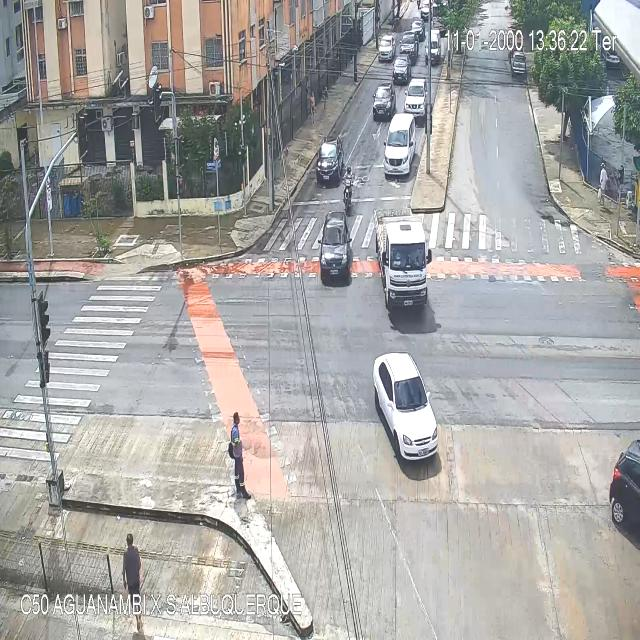Car: (374, 352, 439, 462), (610, 437, 640, 538), (321, 211, 352, 286), (384, 114, 414, 179), (316, 139, 343, 184), (403, 79, 428, 120), (400, 32, 420, 68), (425, 29, 442, 65), (373, 88, 394, 116), (392, 55, 412, 84), (378, 34, 393, 60), (511, 54, 527, 76), (412, 18, 422, 40), (421, 3, 430, 20)
Motorcycle: (344, 163, 354, 213)
Truck: (375, 210, 432, 313)
